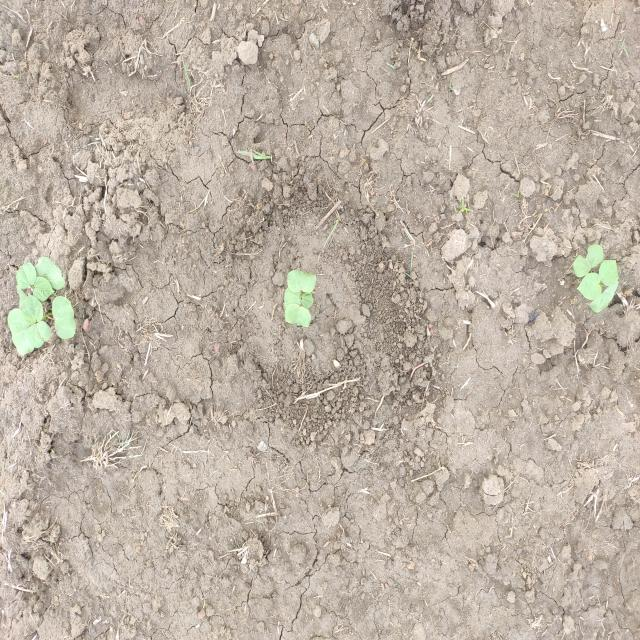seedling: (7, 308, 34, 356), (52, 296, 76, 339), (573, 244, 603, 278), (35, 257, 65, 290), (589, 280, 618, 313), (576, 272, 602, 300), (22, 293, 43, 325), (287, 270, 316, 293), (285, 303, 311, 328), (27, 321, 51, 348), (33, 277, 56, 303), (16, 262, 37, 290), (599, 260, 619, 286), (284, 287, 301, 309), (17, 284, 28, 311), (301, 292, 313, 308)
